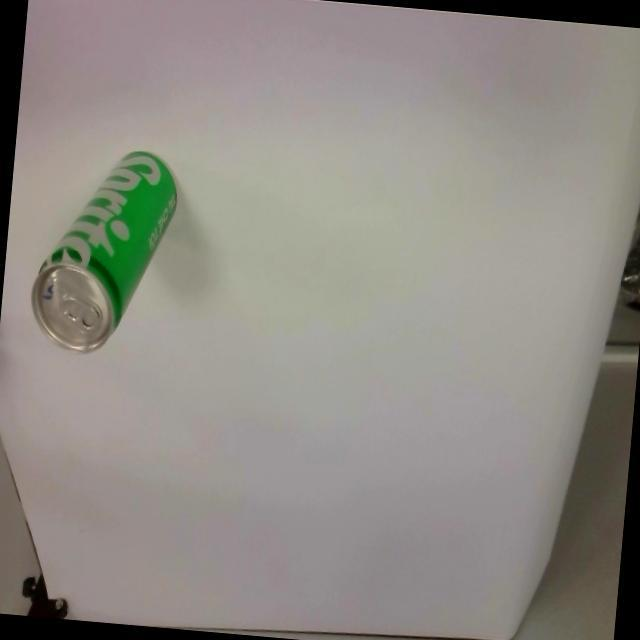debris: (24, 140, 181, 360)
